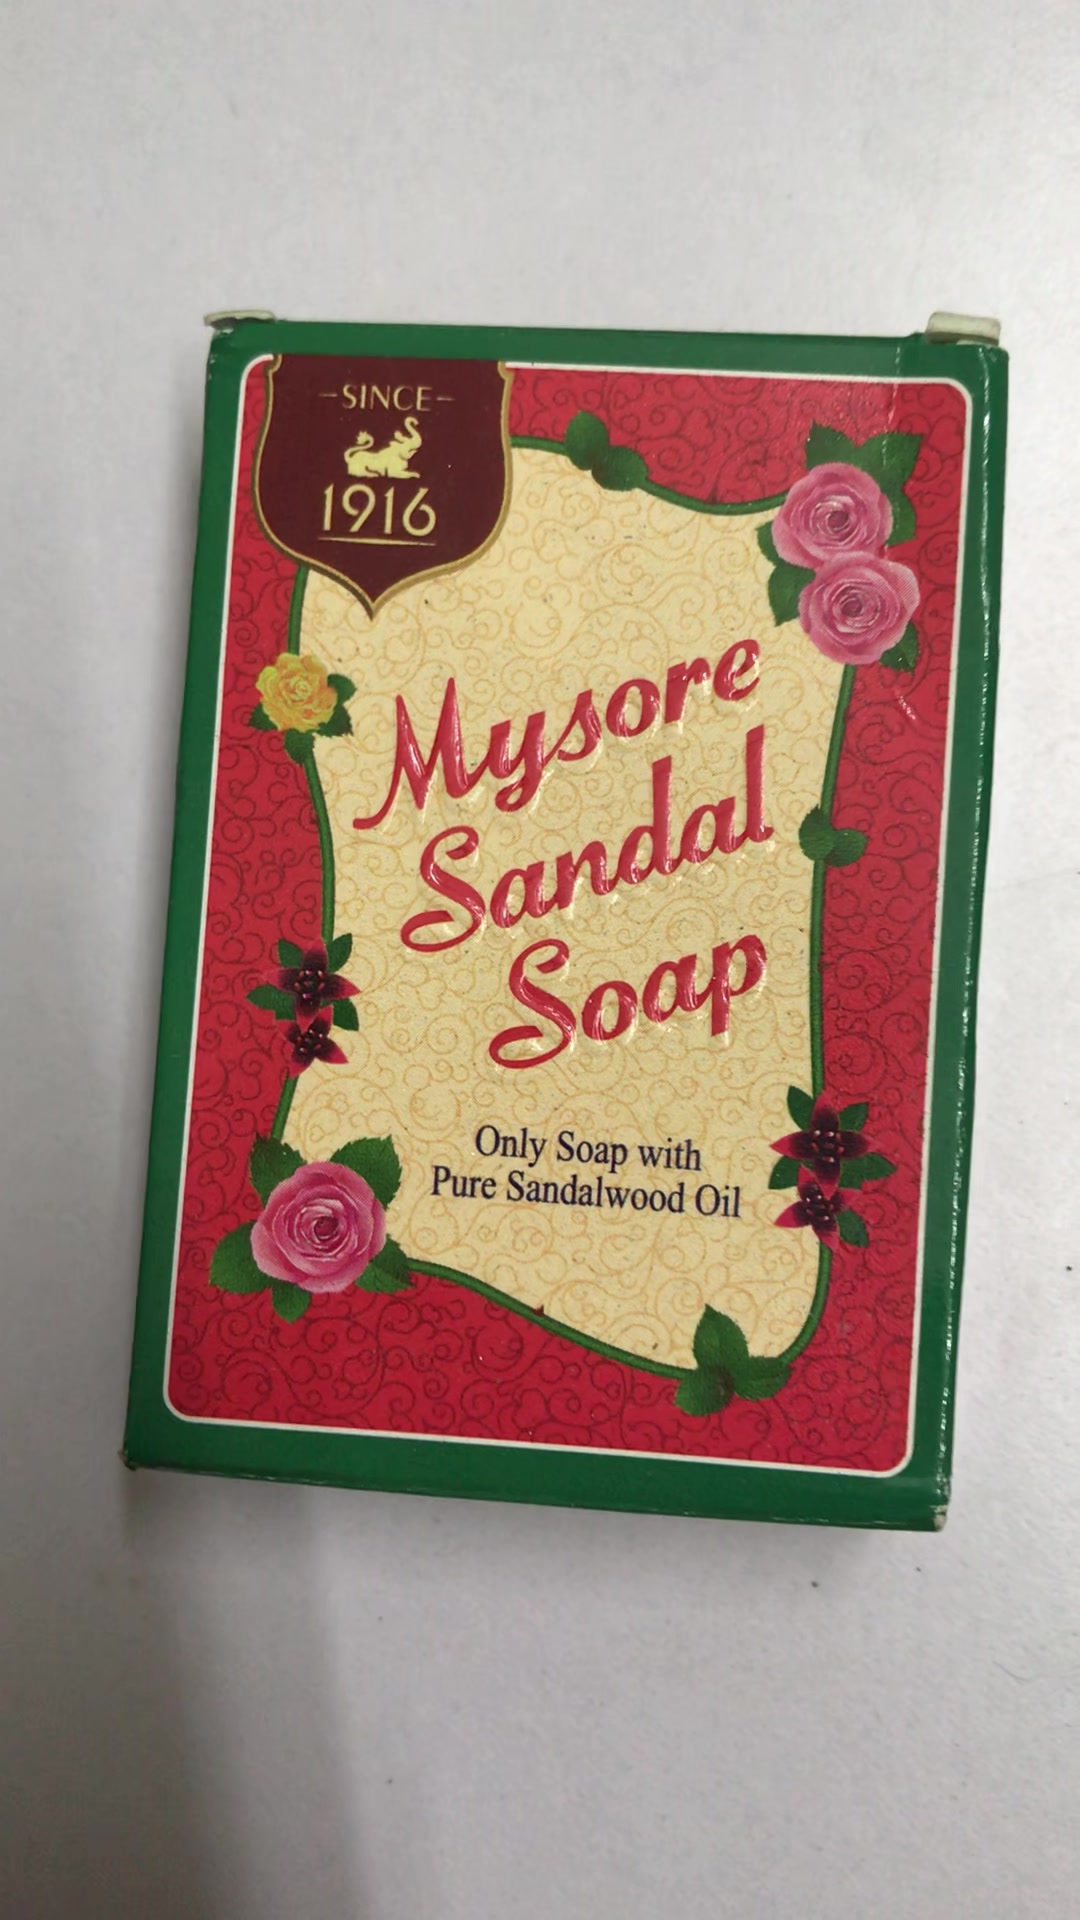mysore sandal soap: (124, 316, 996, 1531)
